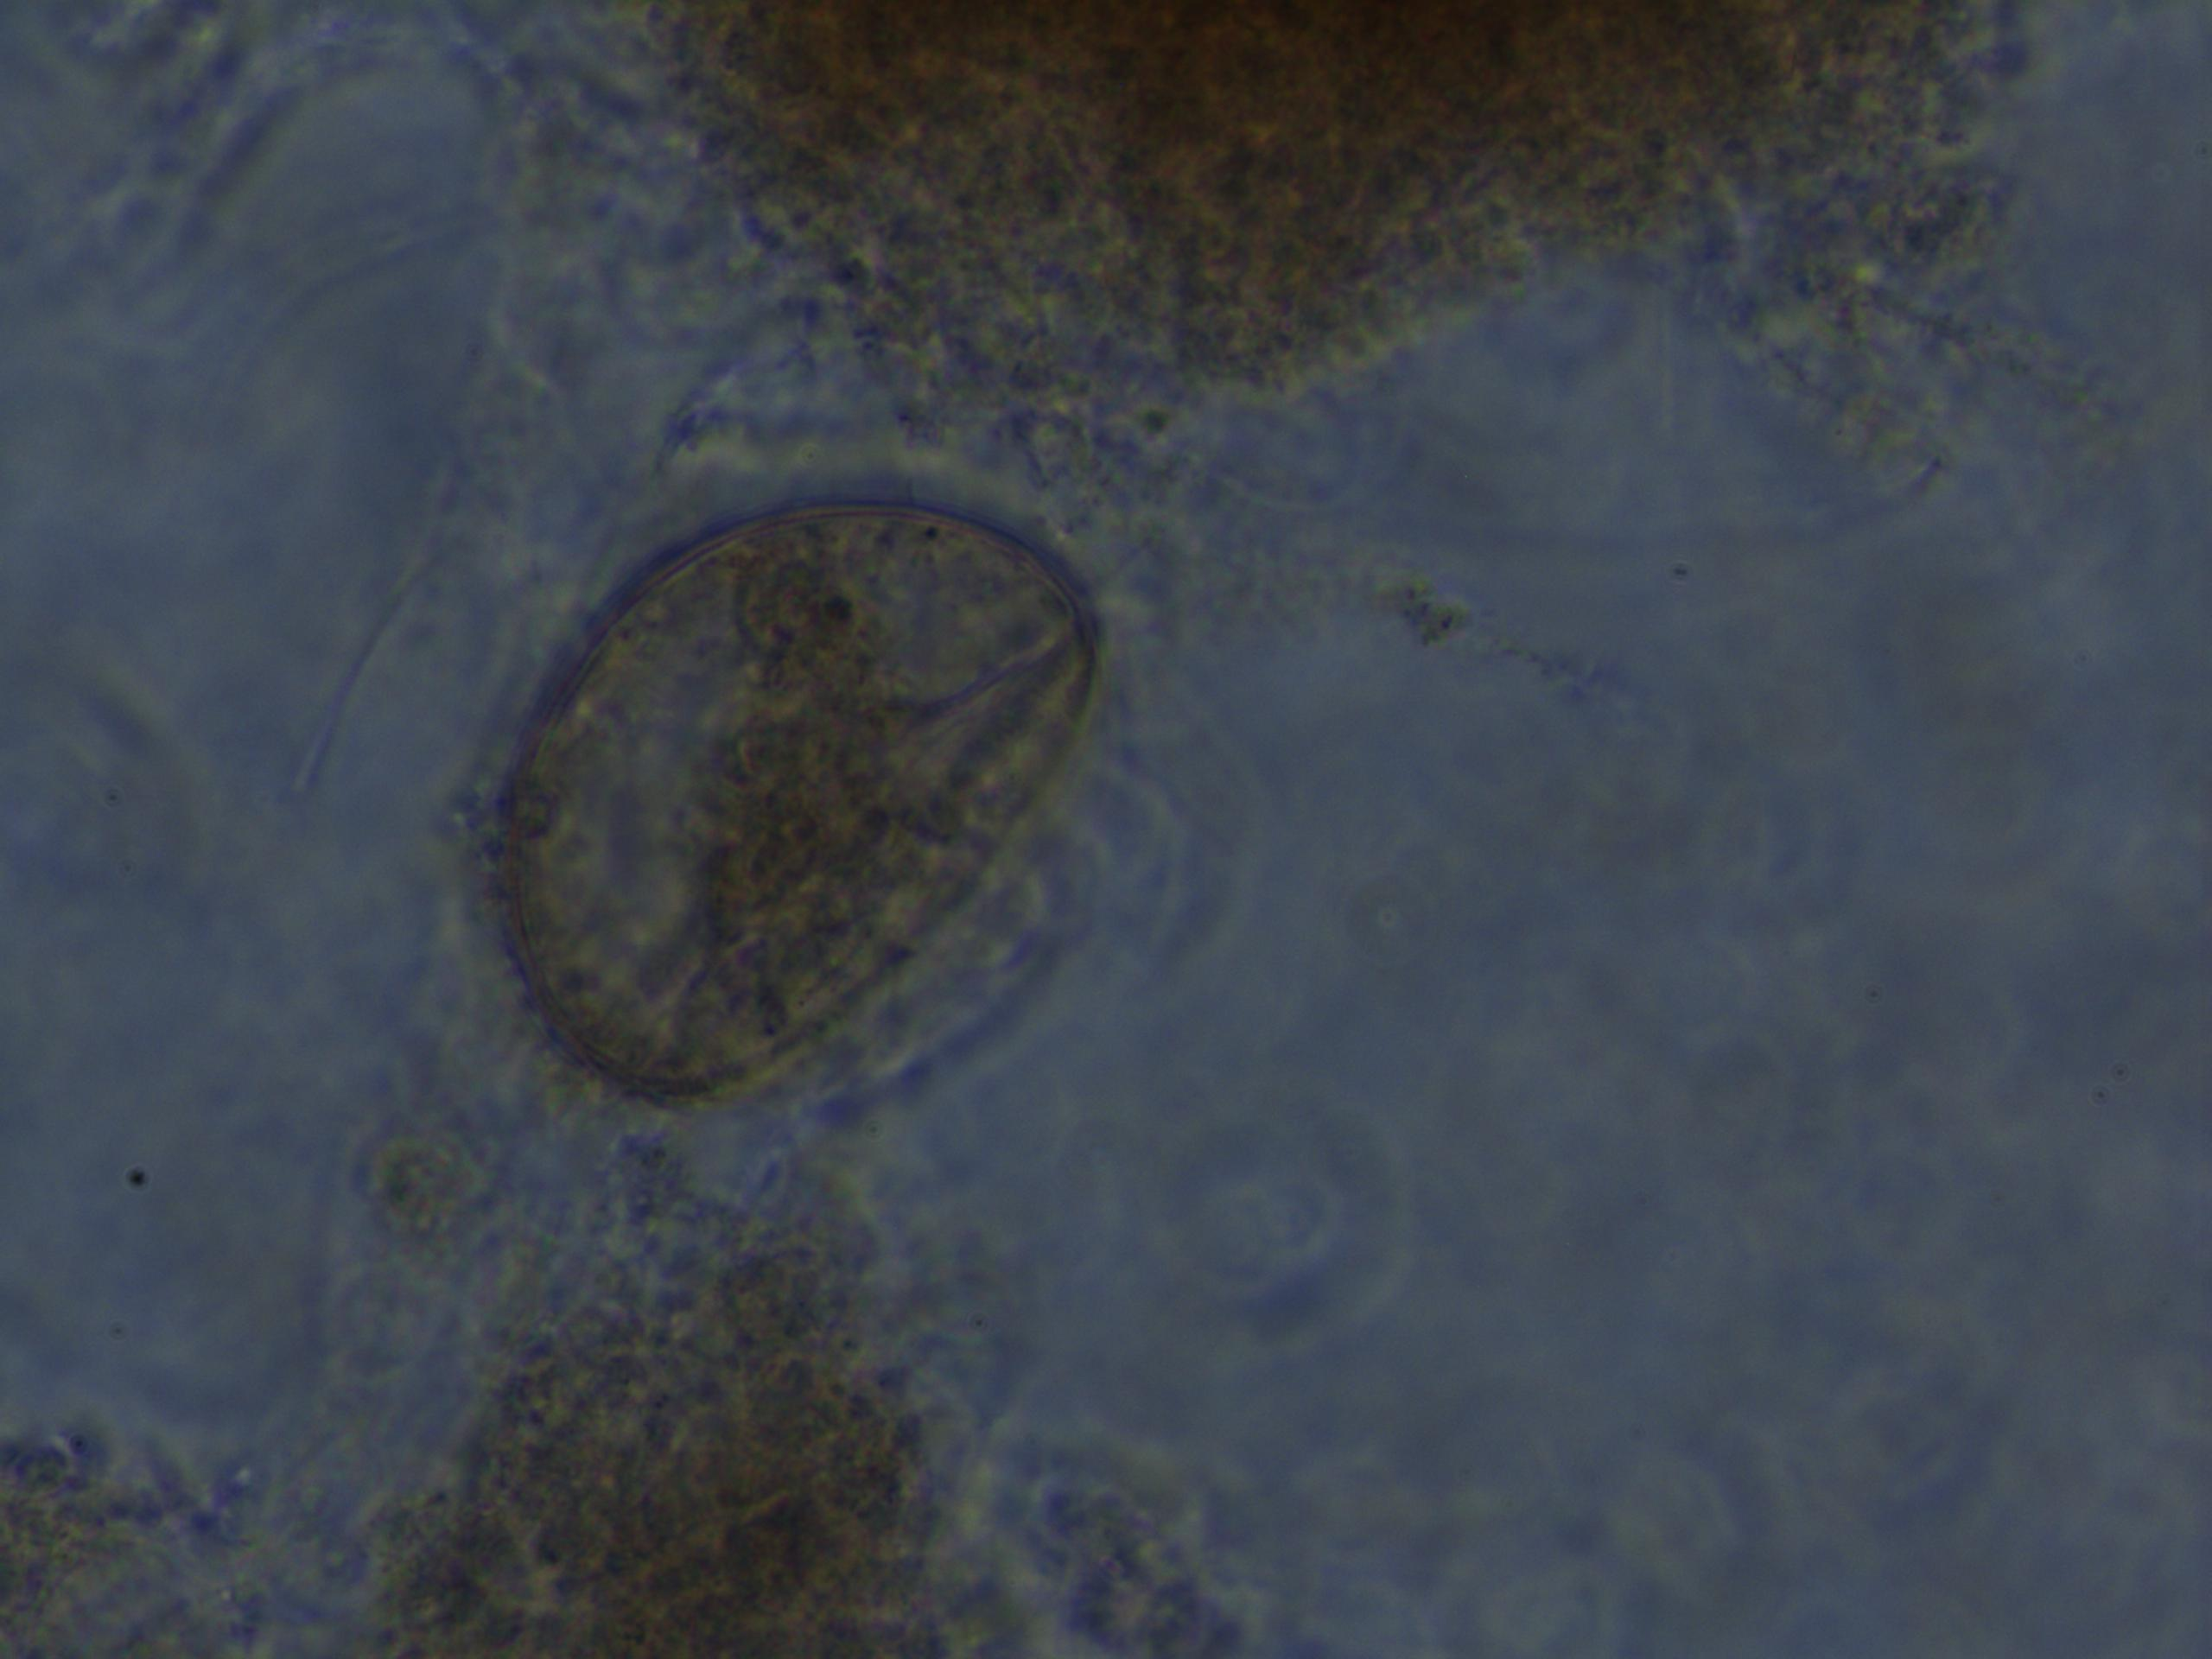protozoa: (469, 483, 1109, 1122)
